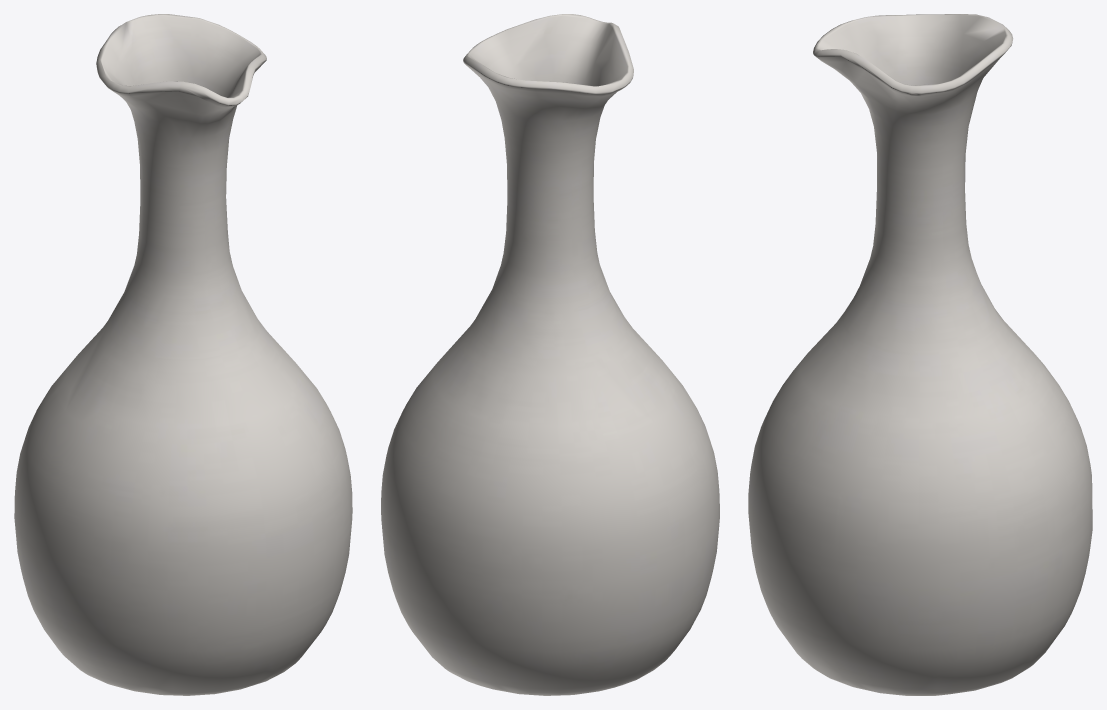
The model's file is ceramic_vase_01.glb.
3 renders of one model, left to right at view 1: azimuth 30°, elevation 25°; view 2: azimuth 150°, elevation 25°; view 3: azimuth 270°, elevation 25°, orthographic. The views are drawn at different scales.
Visible parts, largest first — view 1: ceramic_vase_01; view 2: ceramic_vase_01; view 3: ceramic_vase_01.
Part boxes in pixels (<box>): ceramic_vase_01: <box>14,14,352,695</box>; ceramic_vase_01: <box>381,14,719,695</box>; ceramic_vase_01: <box>748,14,1092,695</box>.
Size of the model in its own units: 0.2036 by 0.4003 by 0.2031.
Materials: 1 (1 with a texture image).
